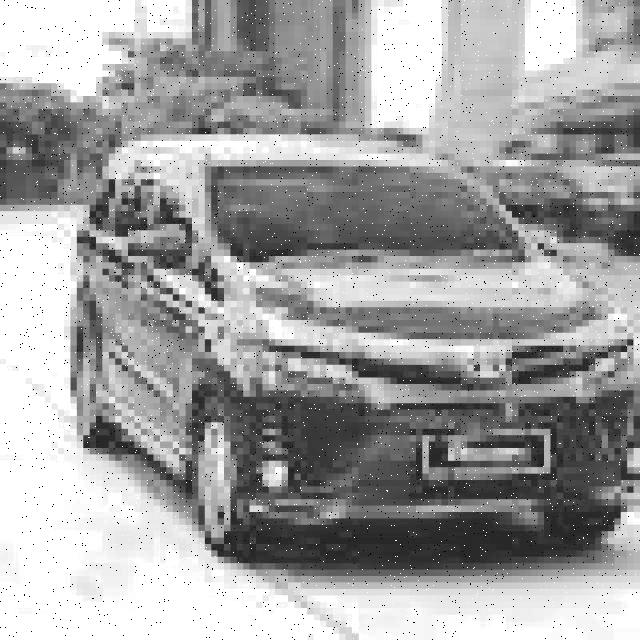Car: (43, 126, 640, 556)
